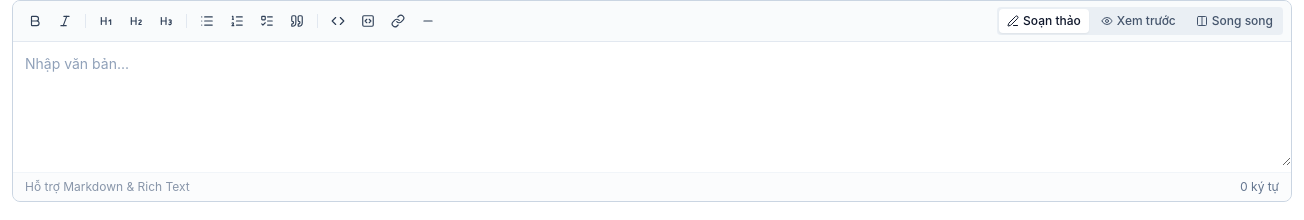
Test: RichTextEditor › inserts bold formatting when clicking bold button
This screenshot has width=1304, height=220.
Step 1. Click the button titled "In đậm" → (35, 21), box x1=21 y1=7 x2=49 y2=35
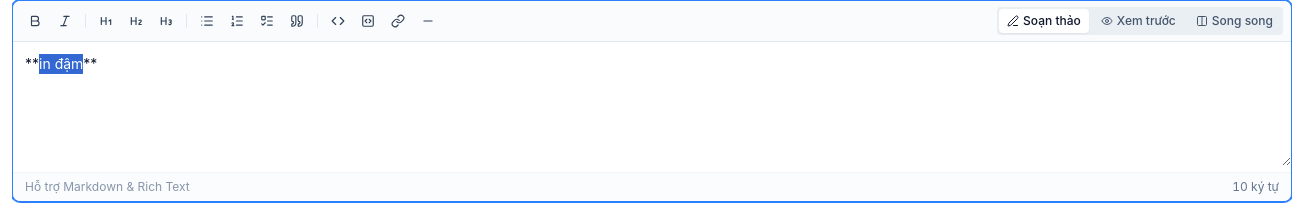
Expected: the text box with placeholder "Nhập văn bản..." holds "**in đậm**", x1=13 y1=42 x2=1291 y2=166
